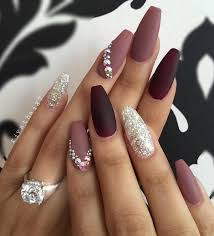nail: (121, 105, 156, 159), (101, 28, 134, 81), (149, 47, 181, 101), (135, 5, 162, 64), (90, 85, 118, 138), (175, 158, 202, 204), (69, 121, 92, 170), (48, 72, 70, 112)
